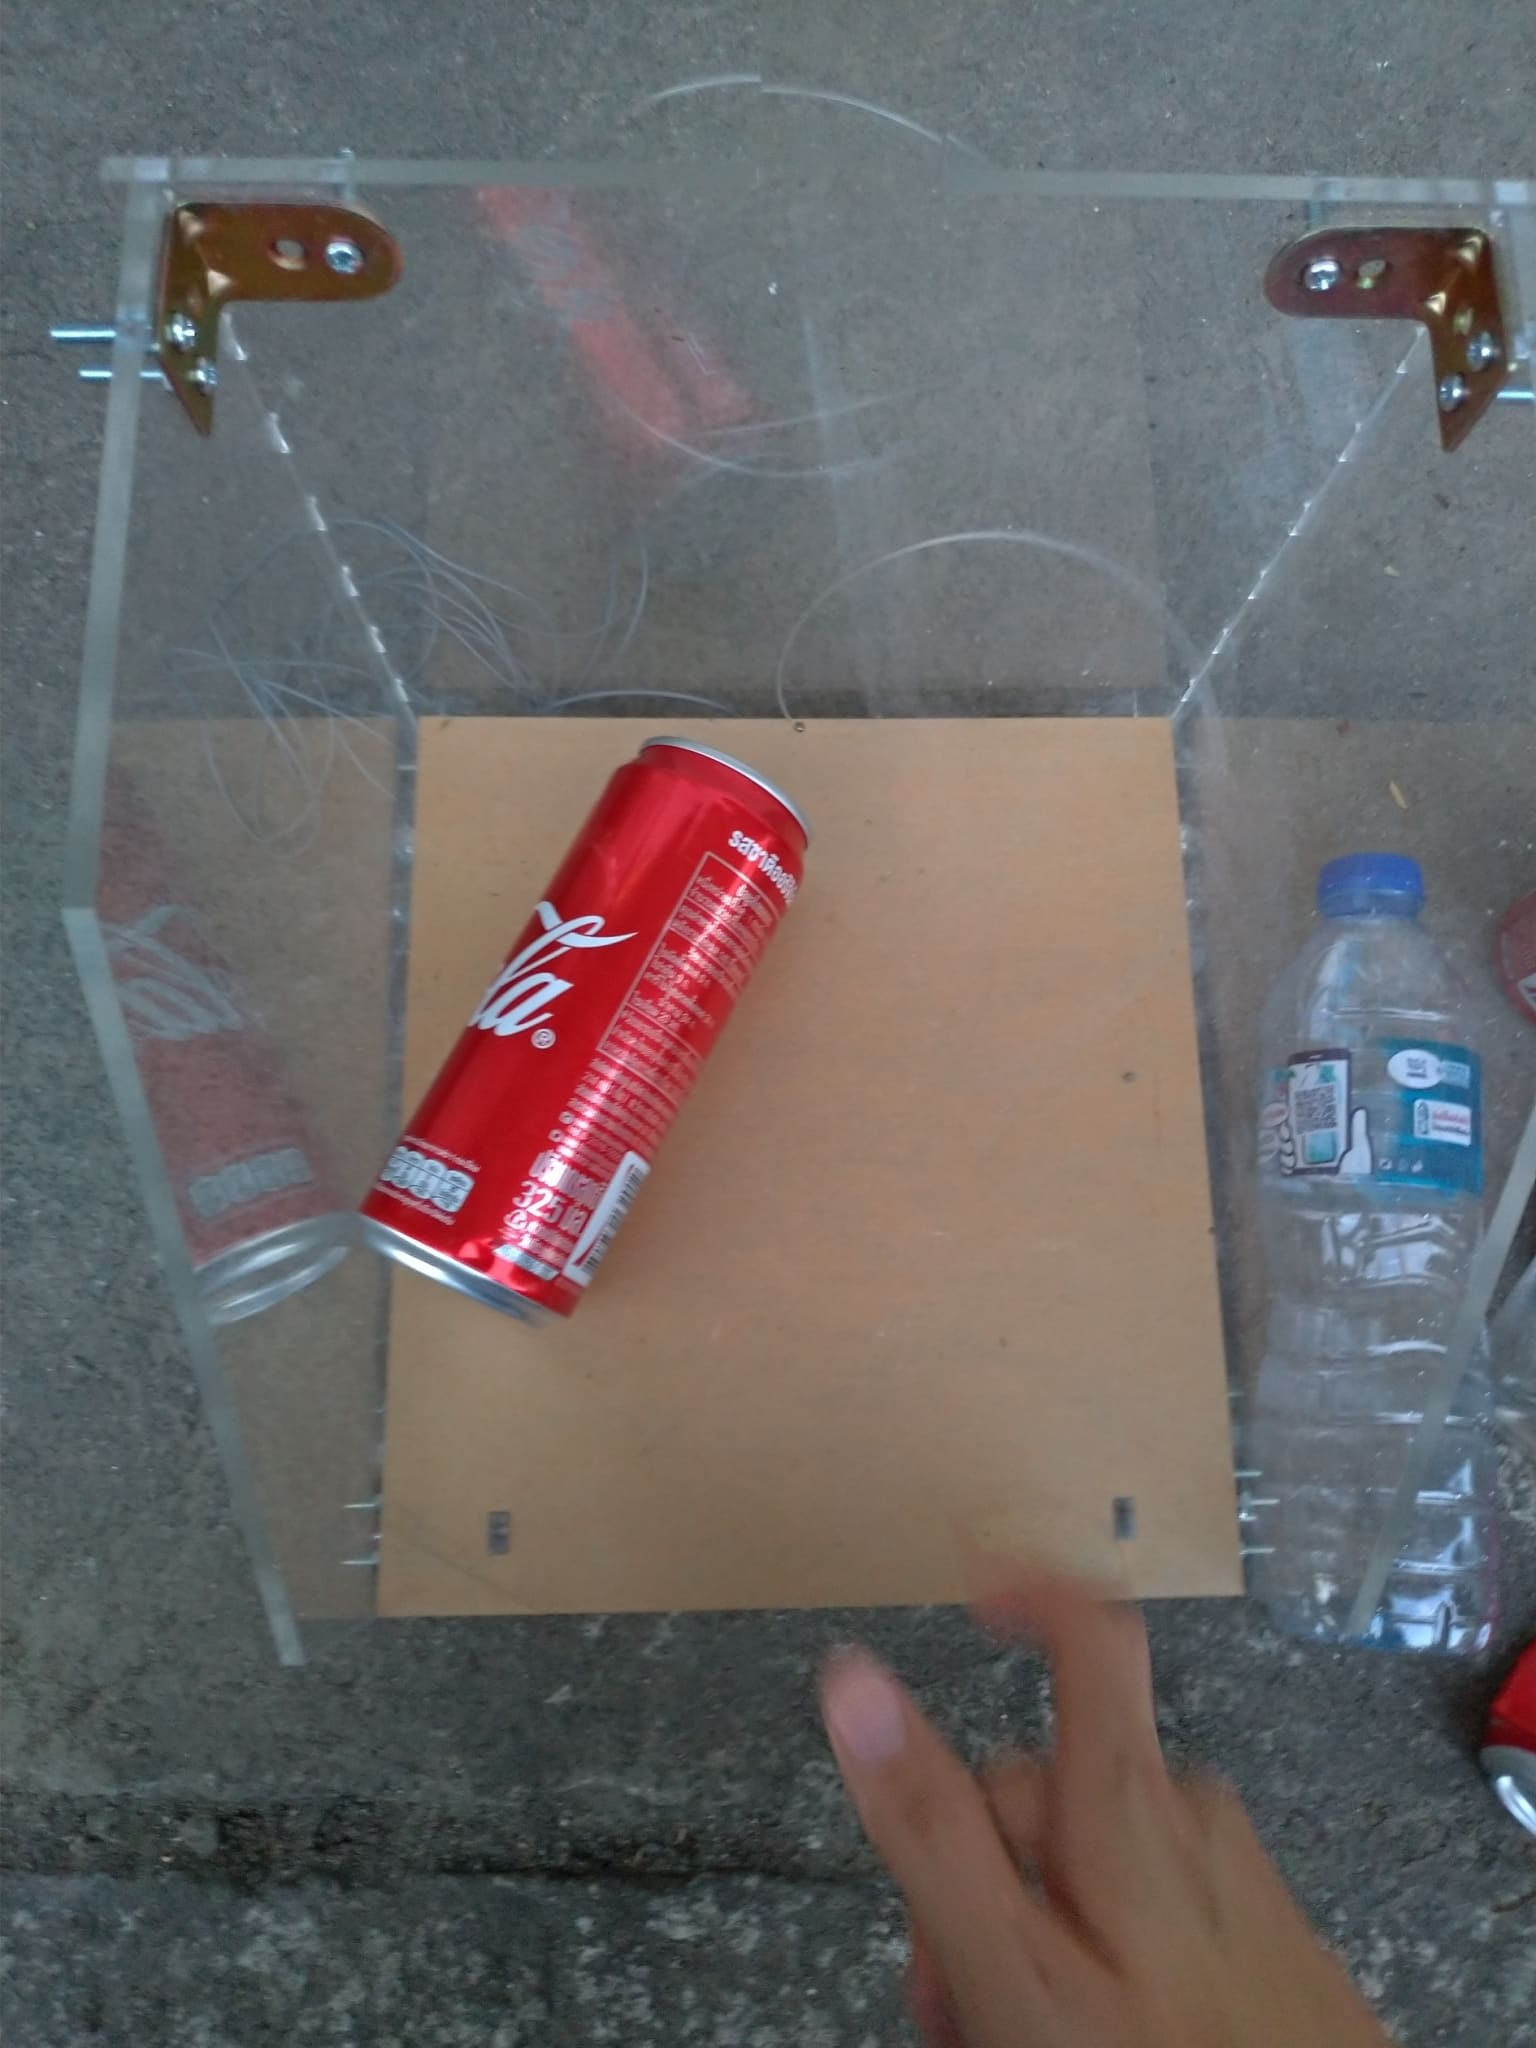AlCan: (357, 734, 810, 1327)
PlasticBottle: (1234, 845, 1504, 1661)
